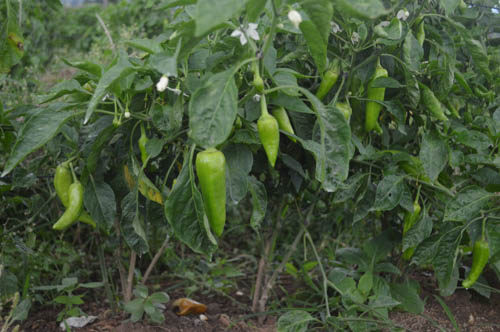ChiliPepper: (196, 151, 228, 238), (53, 166, 90, 224), (44, 184, 85, 231), (360, 72, 382, 138), (253, 116, 279, 163), (463, 241, 488, 283), (310, 73, 333, 103)
